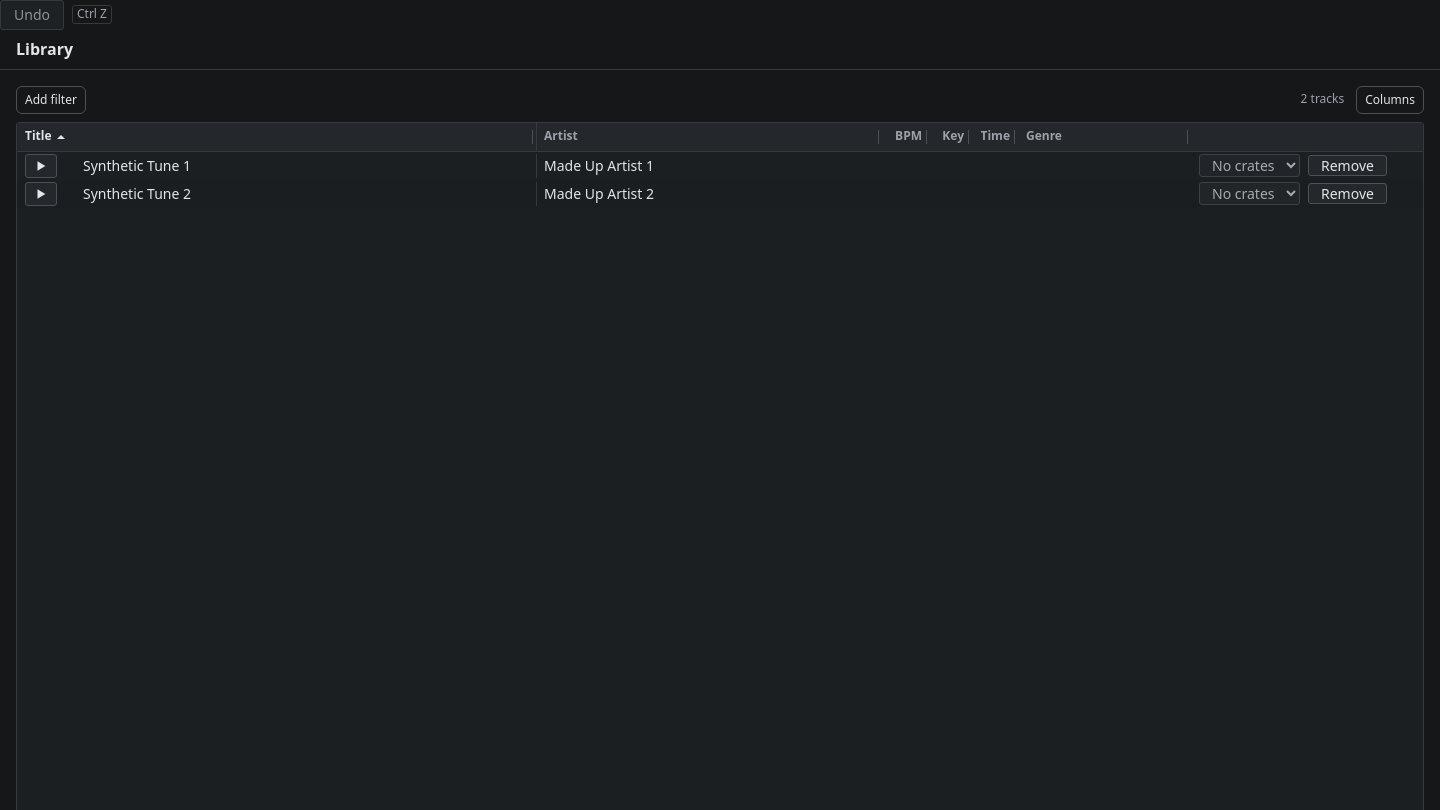
it: removing a track from the Library › says the track was removed and offers no Undo there, only the top bar's
Click the button "Remove" in the row of "Synthetic Tune 1" at (1347, 166), box [1308, 155, 1387, 176]
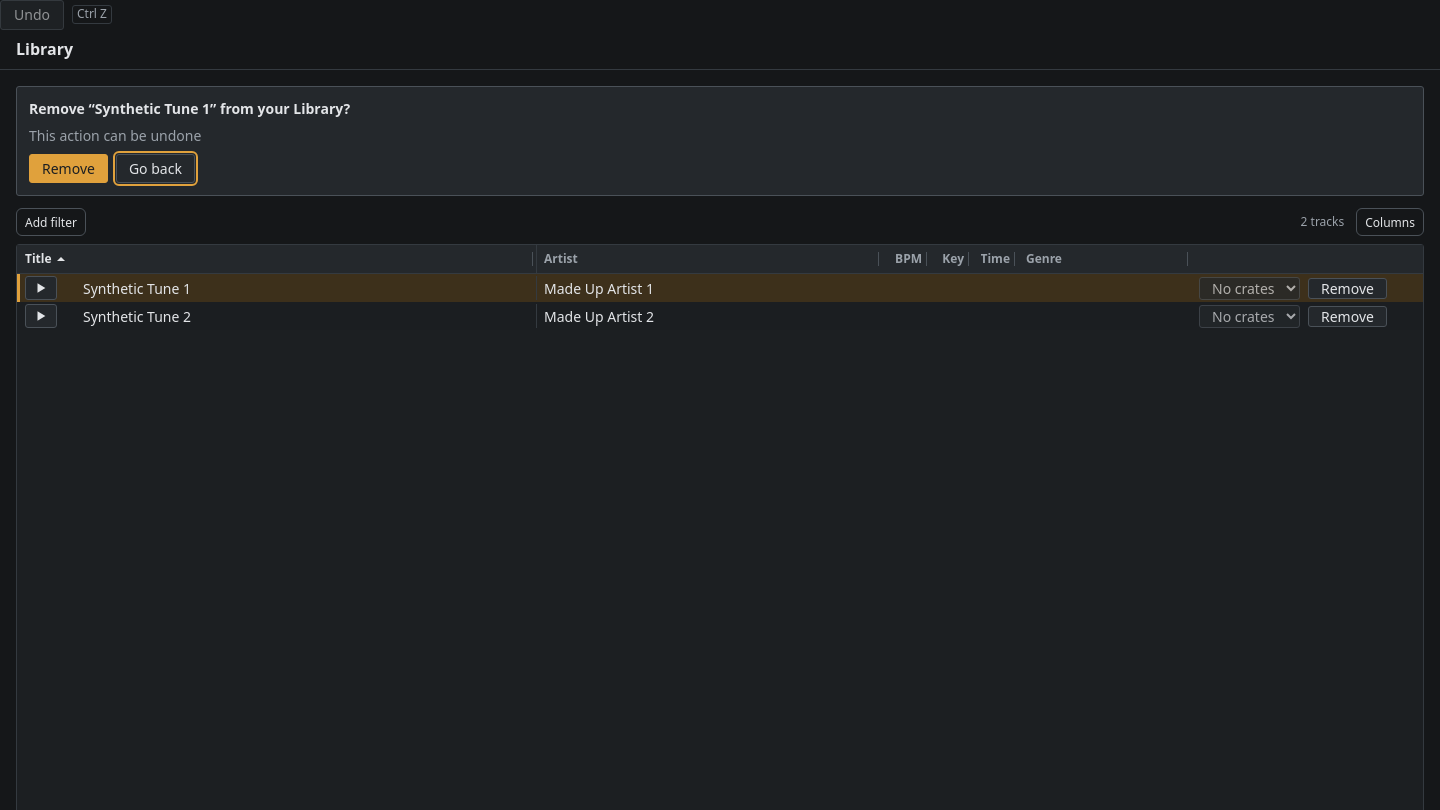
Click the button "Remove" below "This action can be undone" at (68, 169), box [29, 154, 108, 183]
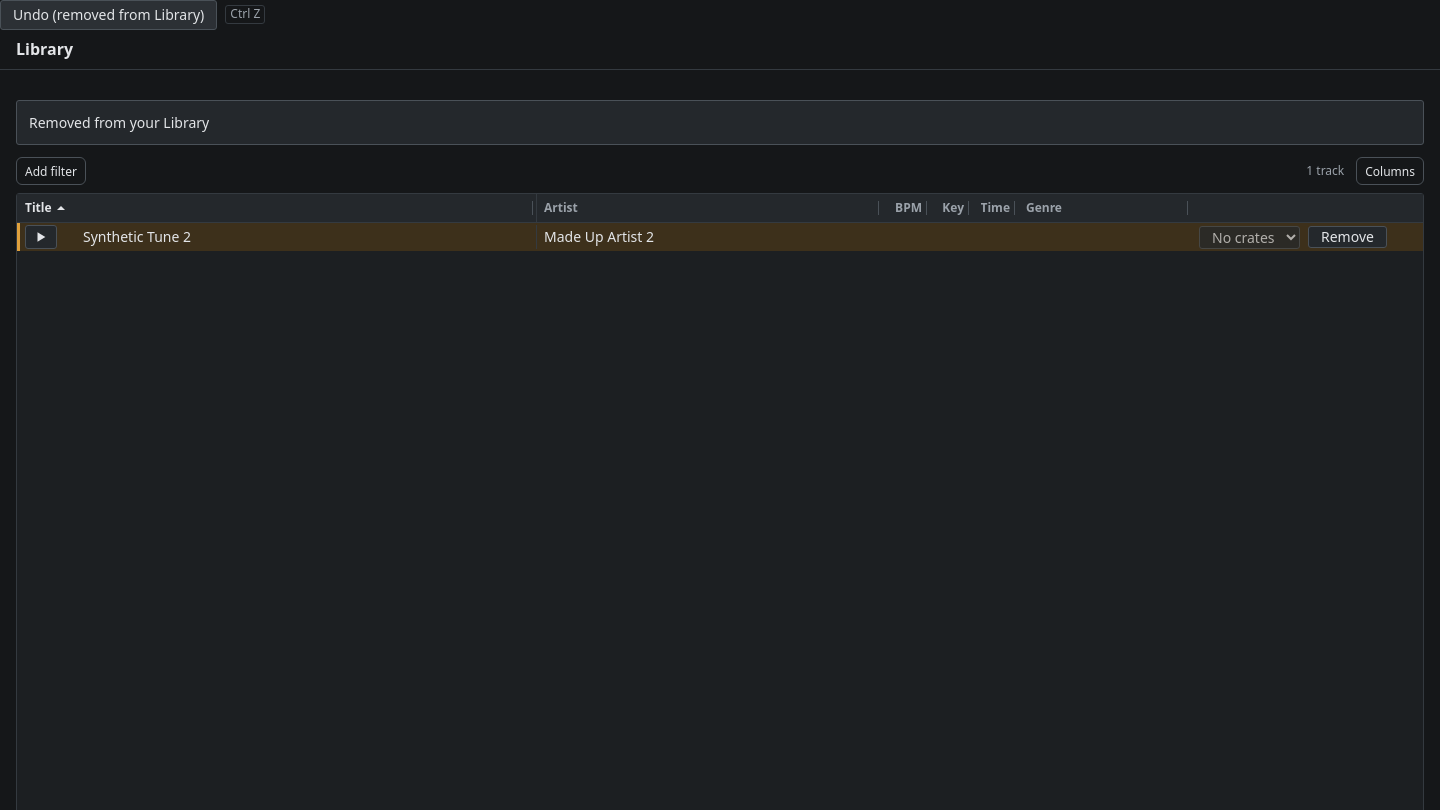
Check: the message reads "Removed from your Library", box [29, 113, 209, 132]
Check: the button "Undo (removed from Library)" is enabled, box [0, 0, 217, 30]
